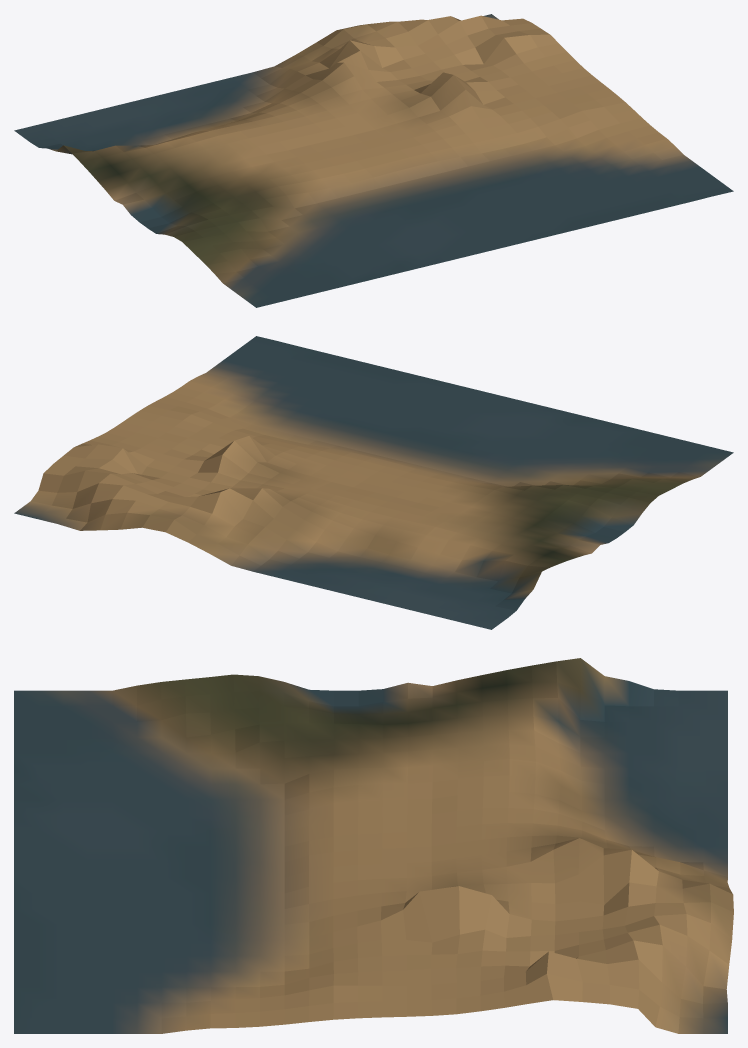
File: MAPA 3.glb
3 views of the same model, one above another, from view 1: azimuth 30°, elevation 25°; view 2: azimuth 150°, elevation 25°; view 3: azimuth 270°, elevation 25° (orthographic). The views are drawn at different scales.
Visible parts, largest first — view 1: MAPA 3; view 2: MAPA 3; view 3: MAPA 3.
Part boxes in pixels (box(x1,y1,x2,y2)): MAPA 3: box(14, 14, 733, 307); MAPA 3: box(14, 336, 733, 629); MAPA 3: box(14, 658, 733, 1033).
Size of the model in its own units: 40.87 by 3.41 by 36.11.
